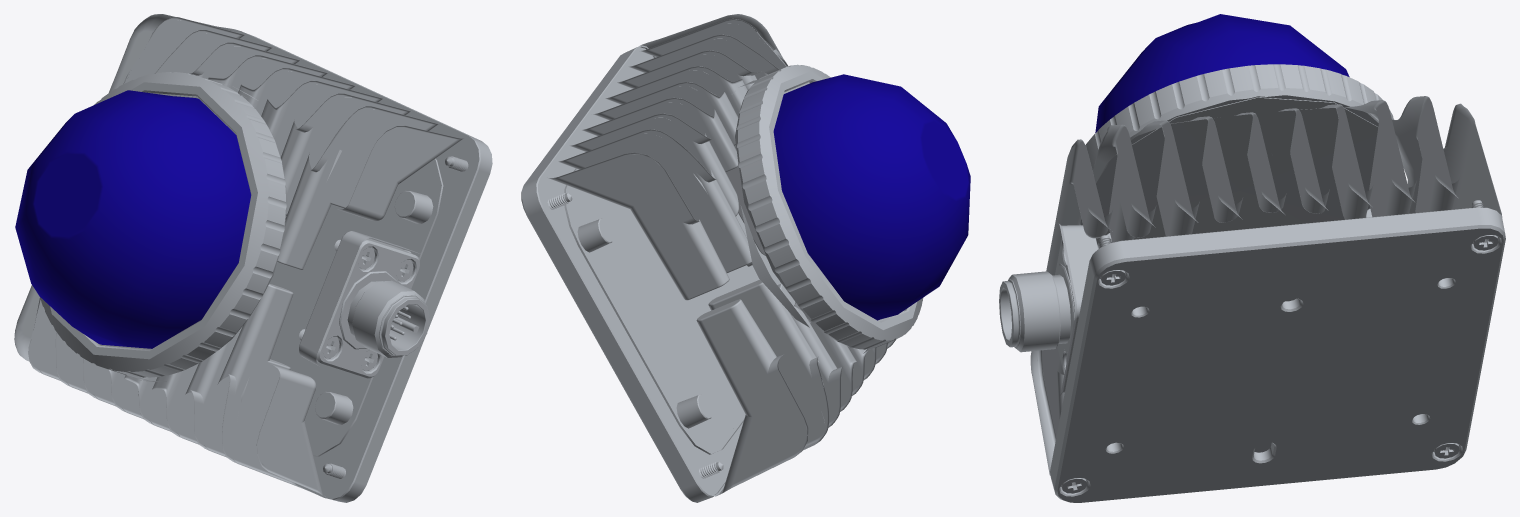
File: mid360_housing.glb
The picture shows the model from 3 angles, left to right: view 1: azimuth 30°, elevation 25°; view 2: azimuth 150°, elevation 25°; view 3: azimuth 270°, elevation 25°; orthographic projection. The views are drawn at different scales.
Parts seen in each view (by area): view 1: MID-360(雷达)1.0-1_5#126, MID-360(雷达)1.0-1__MID-360_4_1_1-1-solid1_6b0131#128, MID-360(雷达)1.0-1__MID-360_4_1_1-1-solid1_ffdb71#129, MID-360(雷达)1.0-1__MID-360_4_2_1-1-solid1_66d035#108, MID-360(雷达)1.0-1__MID-360_4_3_2-1-solid1_c04a7b#115, MID-360(雷达)1.0-1__MID-360_4_2_1-1-solid1_54eff6#107; view 2: MID-360(雷达)1.0-1_5#126, MID-360(雷达)1.0-1__MID-360_4_1_1-1-solid1_6b0131#128, MID-360(雷达)1.0-1__MID-360_4_2_1-1-solid1_66d035#108, MID-360(雷达)1.0-1__MID-360_4_1_1-1-solid1_ffdb71#129, MID-360(雷达)1.0-1#104, MID-360(雷达)1.0-1__MID-360_4_2_1-1-solid1_54eff6#107; view 3: MID-360(雷达)1.0-1__MID-360_4_2_1-1-solid1_66d035#108, MID-360(雷达)1.0-1_5#126, MID-360(雷达)1.0-1__MID-360_4_1_1-1-solid1_2ded26#127, MID-360(雷达)1.0-1__MID-360_4_1_1-1-solid1_6b0131#128, MID-360(雷达)1.0-1__MID-360_4_1_1-1-solid1_ffdb71#129, MID-360(雷达)1.0-1__MID-360_4_3_2-1-solid1_c04a7b#115, MID-360(雷达)1.0-1__MID-360_4_2_1-1-solid1_54eff6#107.
Part boxes in pixels (x1,y1,x2,y2): MID-360(雷达)1.0-1_5#126: (14,14,479,499); MID-360(雷达)1.0-1__MID-360_4_1_1-1-solid1_6b0131#128: (15,90,251,348); MID-360(雷达)1.0-1__MID-360_4_1_1-1-solid1_ffdb71#129: (40,72,287,377); MID-360(雷达)1.0-1__MID-360_4_2_1-1-solid1_66d035#108: (235,32,492,502); MID-360(雷达)1.0-1__MID-360_4_3_2-1-solid1_c04a7b#115: (316,238,429,378); MID-360(雷达)1.0-1__MID-360_4_2_1-1-solid1_54eff6#107: (333,136,480,499); MID-360(雷达)1.0-1_5#126: (538,14,895,496); MID-360(雷达)1.0-1__MID-360_4_1_1-1-solid1_6b0131#128: (773,74,970,320); MID-360(雷达)1.0-1__MID-360_4_2_1-1-solid1_66d035#108: (521,47,795,502); MID-360(雷达)1.0-1__MID-360_4_1_1-1-solid1_ffdb71#129: (735,64,923,349); MID-360(雷达)1.0-1#104: (740,205,809,327); MID-360(雷达)1.0-1__MID-360_4_2_1-1-solid1_54eff6#107: (536,47,713,497); MID-360(雷达)1.0-1__MID-360_4_2_1-1-solid1_66d035#108: (1050,207,1505,502); MID-360(雷达)1.0-1_5#126: (1030,95,1502,475); MID-360(雷达)1.0-1__MID-360_4_1_1-1-solid1_2ded26#127: (1096,97,1378,243); MID-360(雷达)1.0-1__MID-360_4_1_1-1-solid1_6b0131#128: (1095,14,1349,132); MID-360(雷达)1.0-1__MID-360_4_1_1-1-solid1_ffdb71#129: (1085,64,1394,169); MID-360(雷达)1.0-1__MID-360_4_3_2-1-solid1_c04a7b#115: (999,238,1074,375); MID-360(雷达)1.0-1__MID-360_4_2_1-1-solid1_54eff6#107: (1095,207,1487,463).
Bounding box in the file's own units: 0.0766 × 0.0694 × 0.0776.
